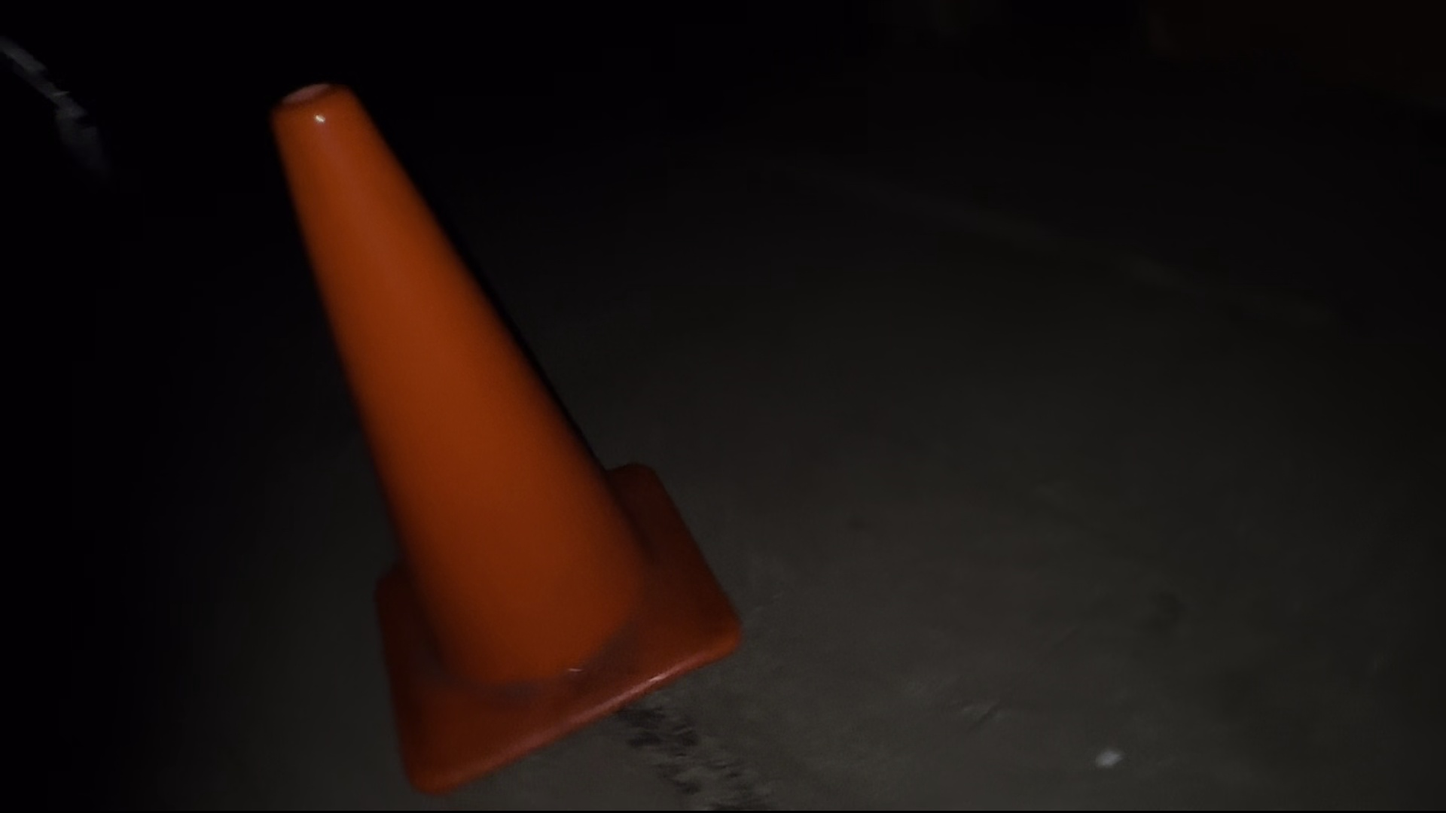traffic_cone: (269, 79, 744, 795)
